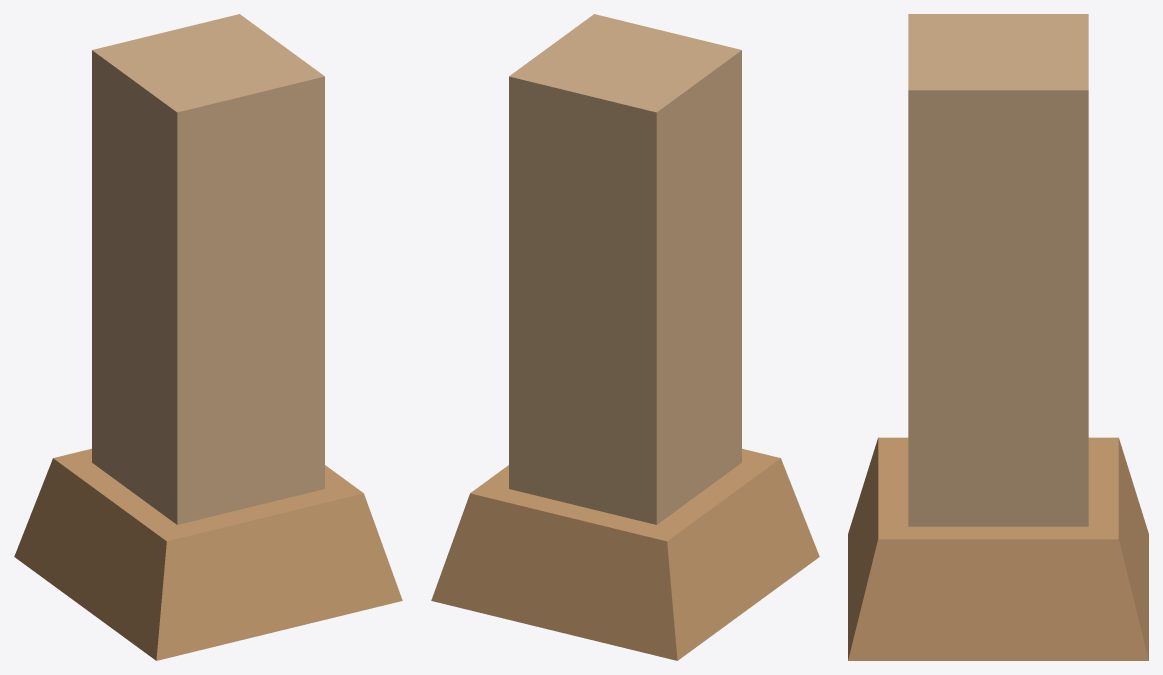
The model's file is Pillar_Wall_Base.obj.
3 renders of one model, left to right at view 1: azimuth 30°, elevation 25°; view 2: azimuth 150°, elevation 25°; view 3: azimuth 270°, elevation 25°, orthographic. The views are drawn at different scales.
Visible parts, largest first — view 1: object1, object2; view 2: object1, object2; view 3: object1, object2.
Boxes of the visible parts, <box> form: object1: <box>92,14,324,524</box>; object2: <box>14,448,402,660</box>; object1: <box>509,14,741,524</box>; object2: <box>431,448,819,660</box>; object1: <box>908,14,1088,526</box>; object2: <box>848,437,1148,660</box>.
Bounding box in the file's own units: 0.5 × 1 × 0.5.
